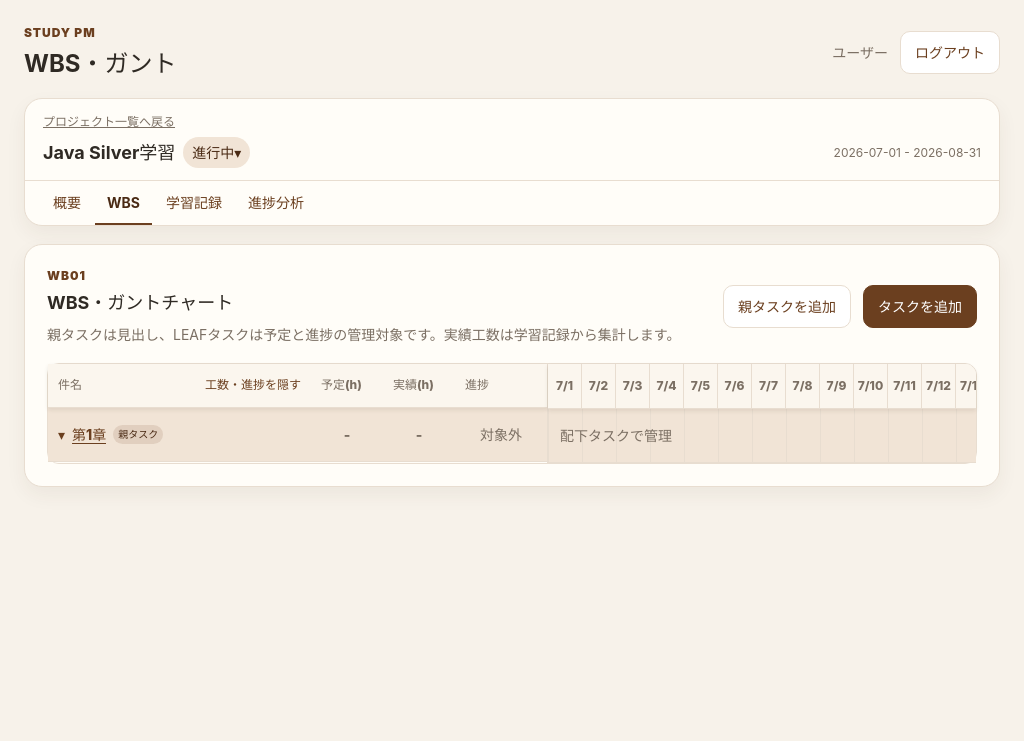
it: WbsPage › 親タスク更新では計画項目を明示的にnullで送信する
Click the button with aria-label "第1章の詳細を開く": click(180, 434) [58,424,301,445]
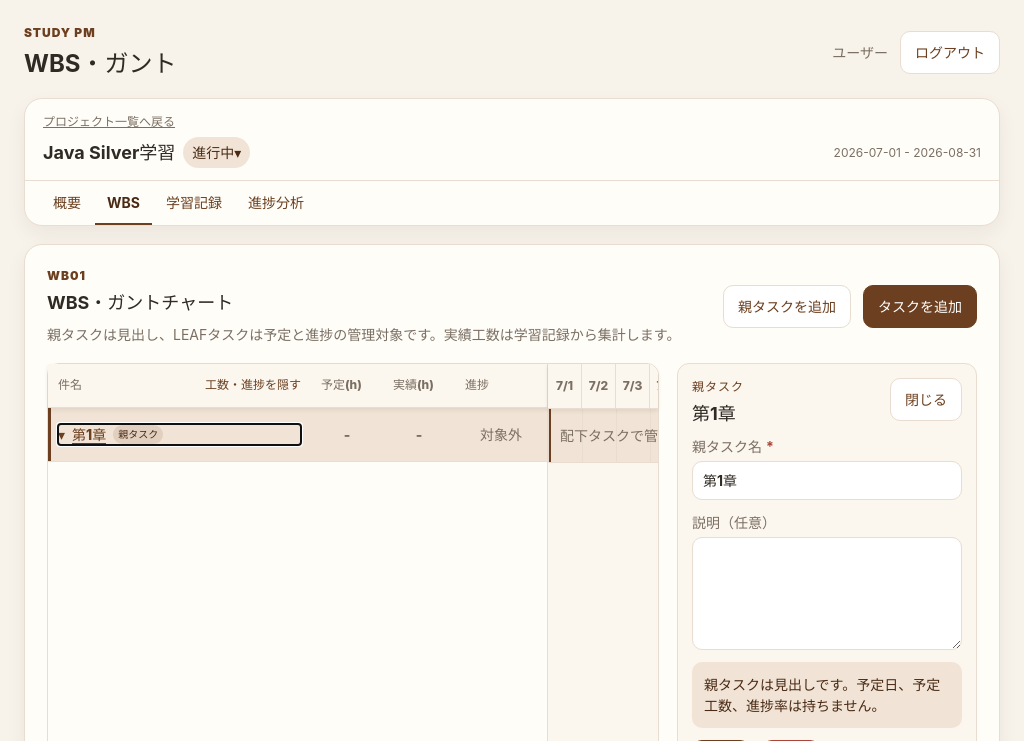
Replace the text in the field labelled "親タスク名 *" with "第2章": (827, 480) [692,461,962,500]
(page scrolled)
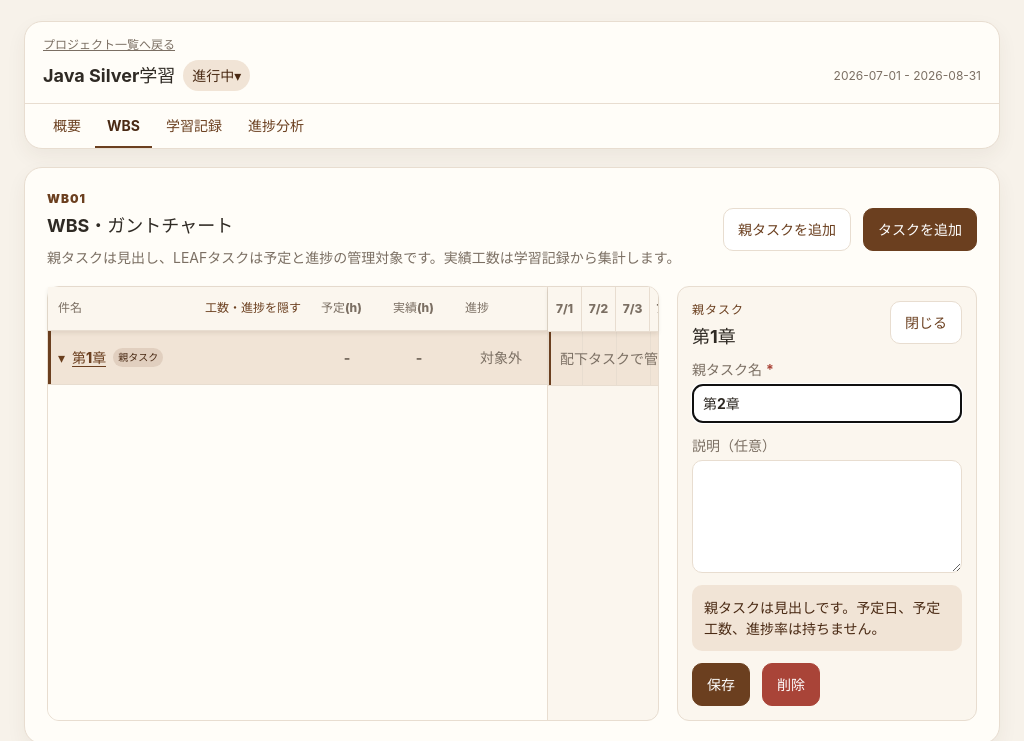
Click the button "保存": click(721, 685) [692,663,750,706]
(page scrolled)
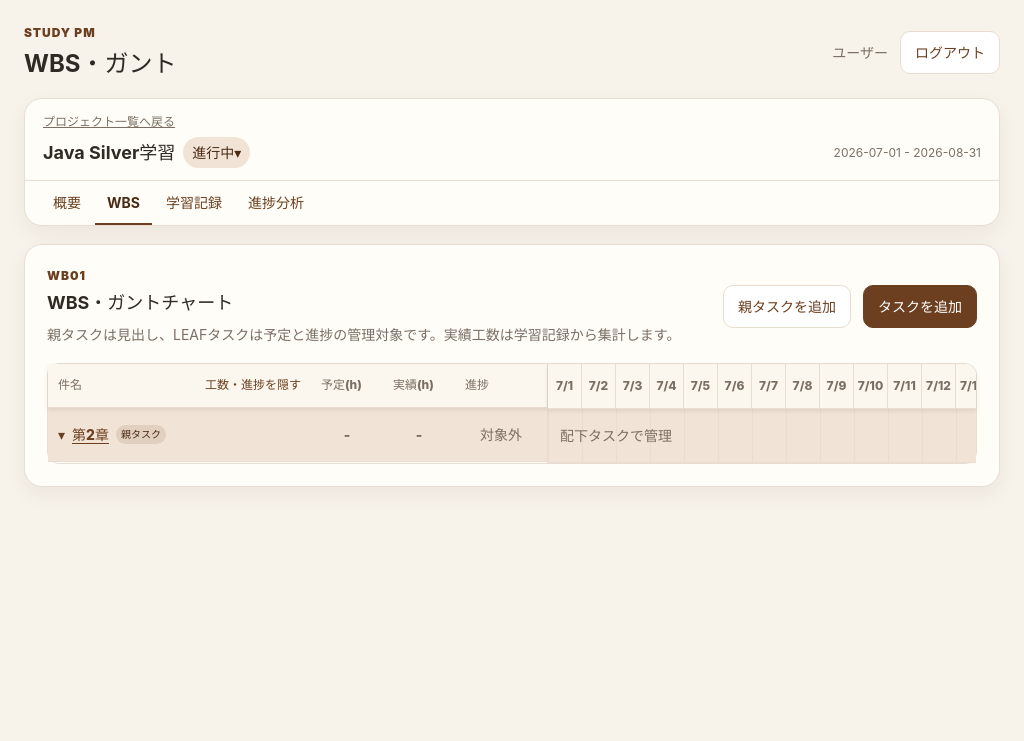
Expected: the text labelled "進捗率" is gone
